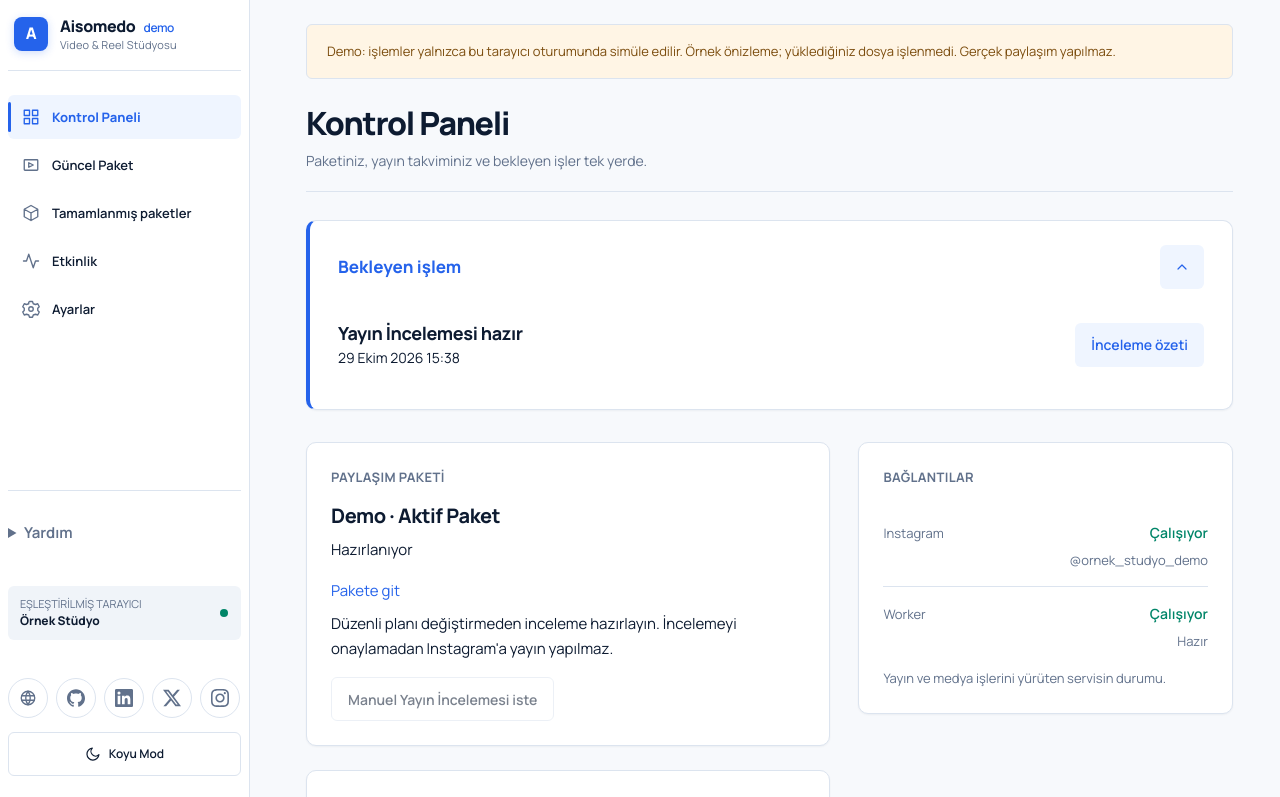
direct demo with a cookie but no marker uses no real session, compat, or events
Expected: the heading "Kontrol Paneli" is shown, [306,101,509,145]
Expected: the text "demo" is shown, [144,19,174,36]
Step 1. Click the link "Ayarlar" → [59, 309], box [22,300,95,318]
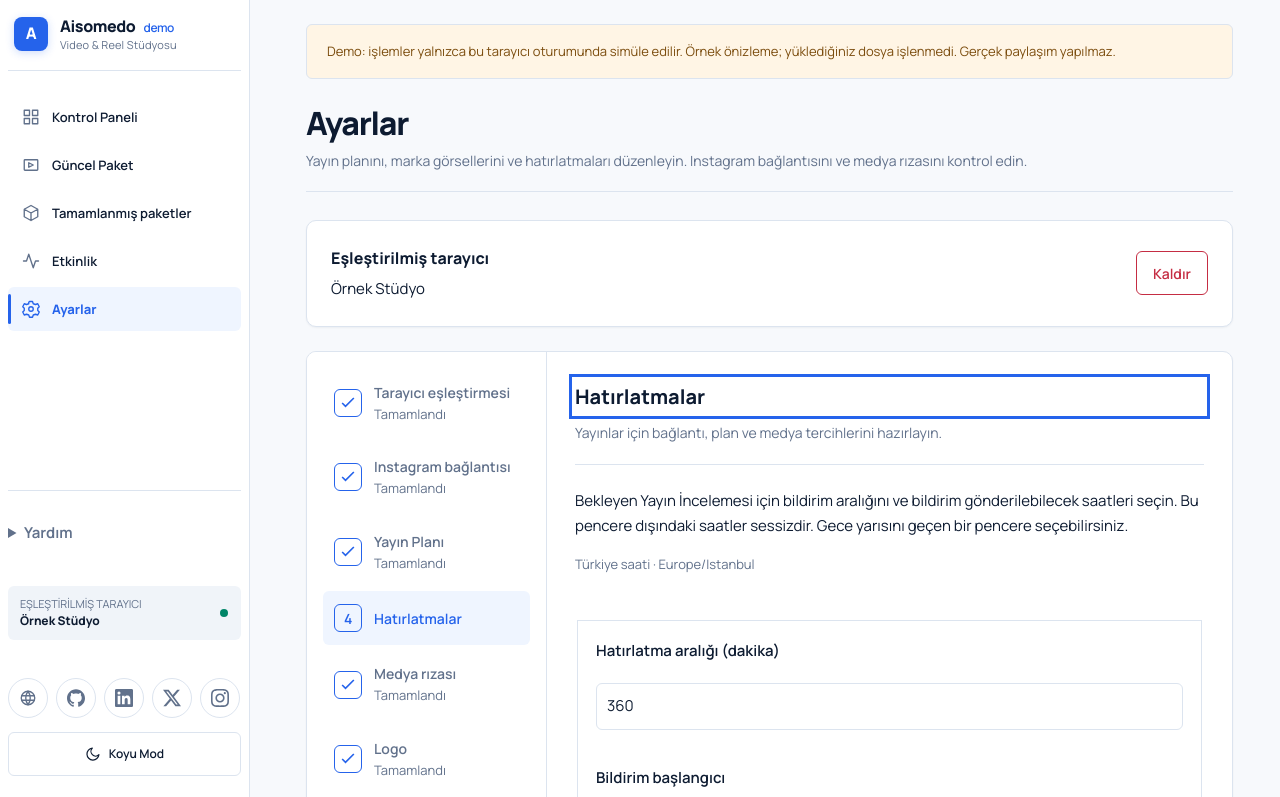
Expected: the heading "Ayarlar" is shown, [306,101,408,145]
